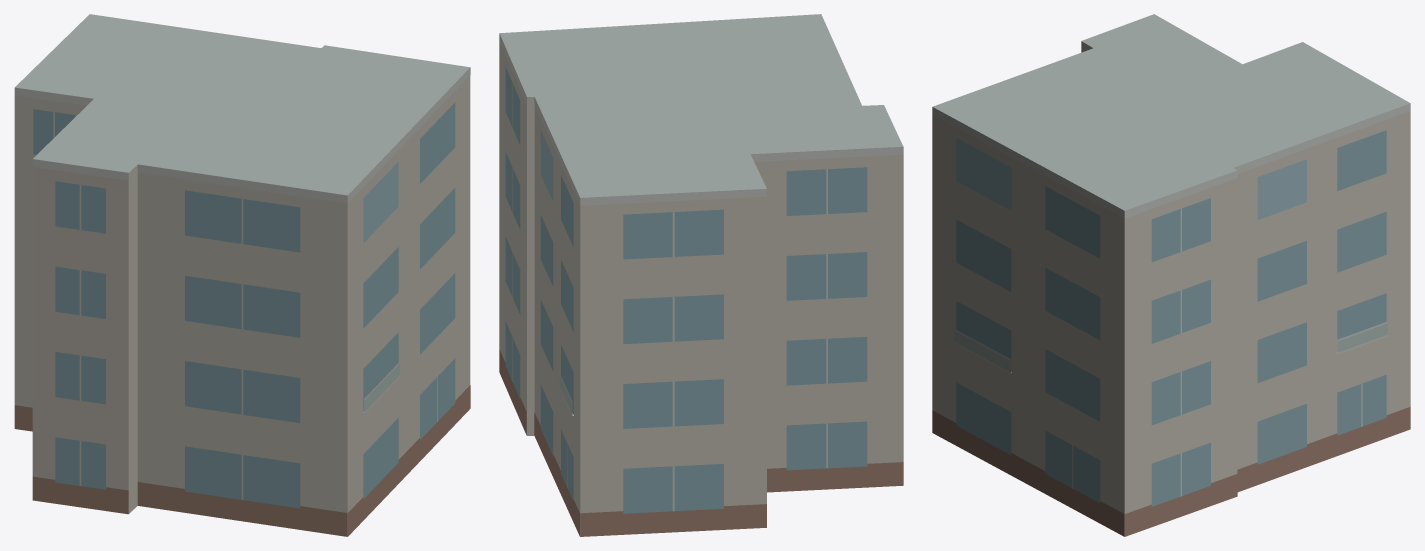
File: survey-upis-33003803.glb
The picture shows the model from 3 angles, left to right: view 1: azimuth 30°, elevation 25°; view 2: azimuth 150°, elevation 25°; view 3: azimuth 270°, elevation 25°; orthographic projection. The views are drawn at different scales.
Parts seen in each view (by area): view 1: survey-upis-33003803.tmp; view 2: survey-upis-33003803.tmp; view 3: survey-upis-33003803.tmp.
Part boxes in pixels (<box>): survey-upis-33003803.tmp: <box>14,14,470,536</box>; survey-upis-33003803.tmp: <box>499,14,903,536</box>; survey-upis-33003803.tmp: <box>932,14,1410,536</box>.
Size of the model in its own units: 13.6 by 10.5 by 13.97.
